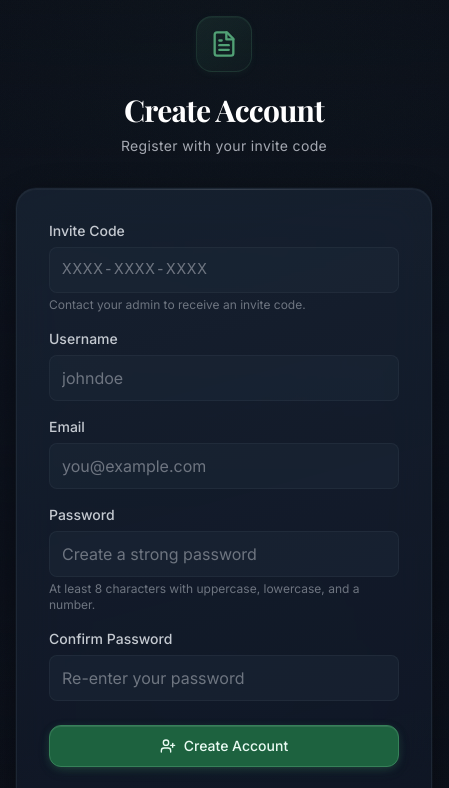
RegisterPage › shows error for empty fields
This screenshot has width=449, height=788.
Click the button "Create Account". click: click(224, 746)
box: [49, 725, 399, 767]
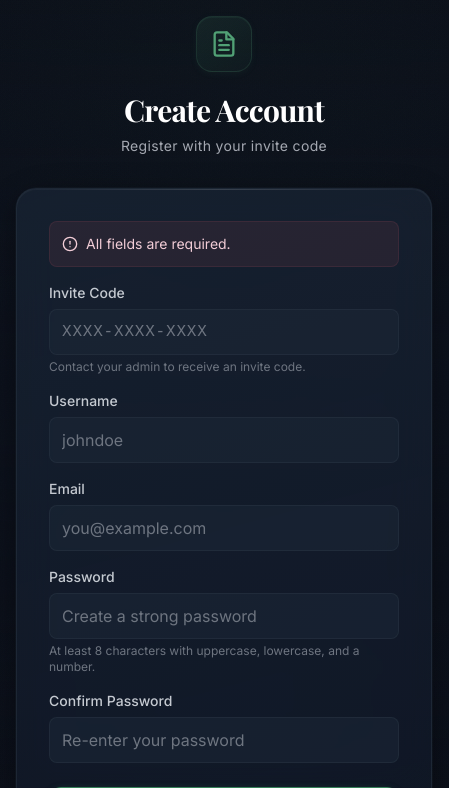
Check: the text "All fields are required." is shown, box [86, 234, 231, 254]
